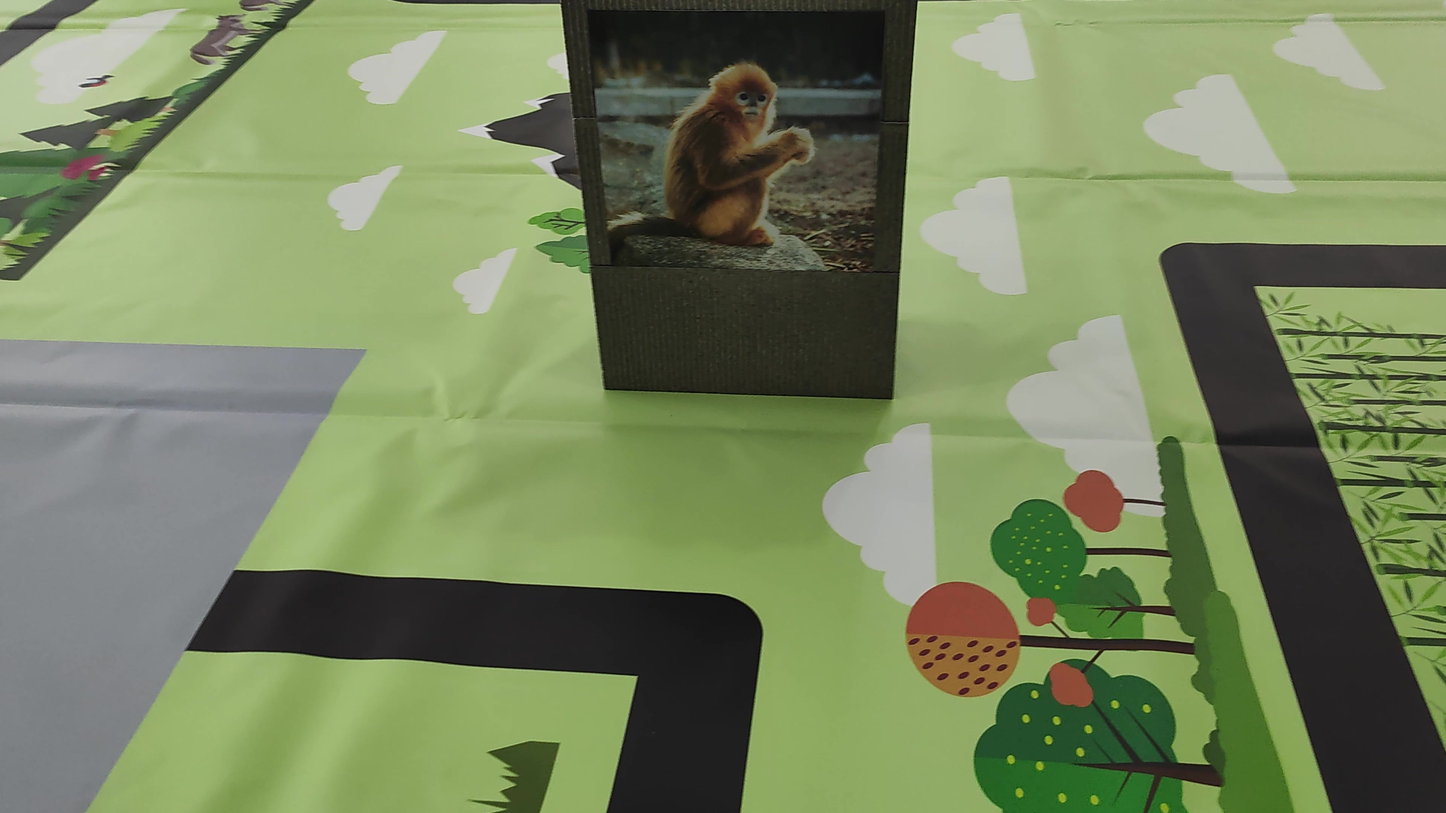monkey: (602, 24, 866, 269)
